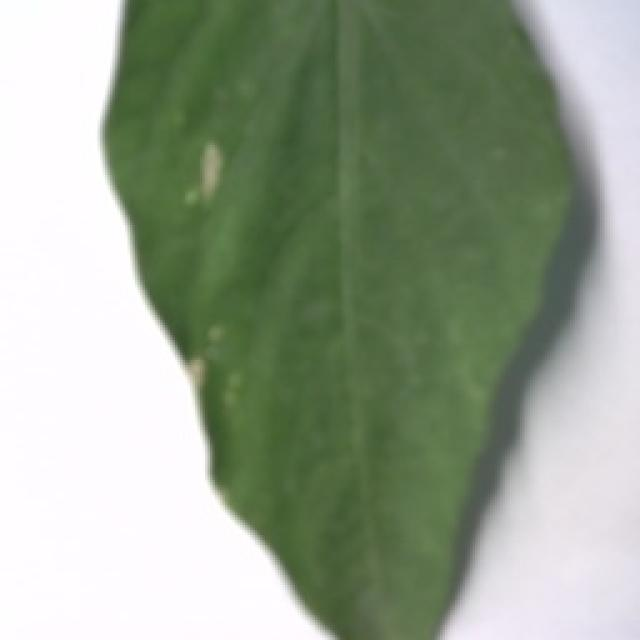Leaf: (99, 3, 577, 640)
